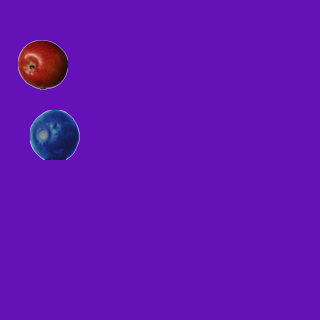Apple Braeburn: (17, 39, 67, 89)
Huckleberry: (29, 109, 79, 159)
